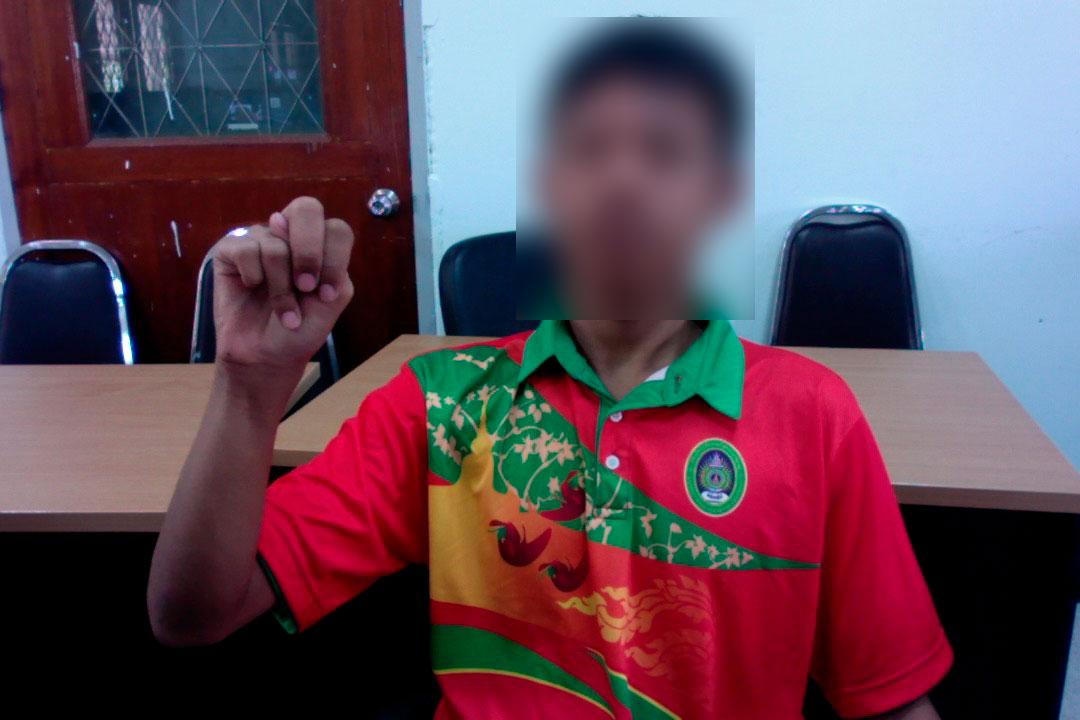nor: (206, 187, 365, 400)
